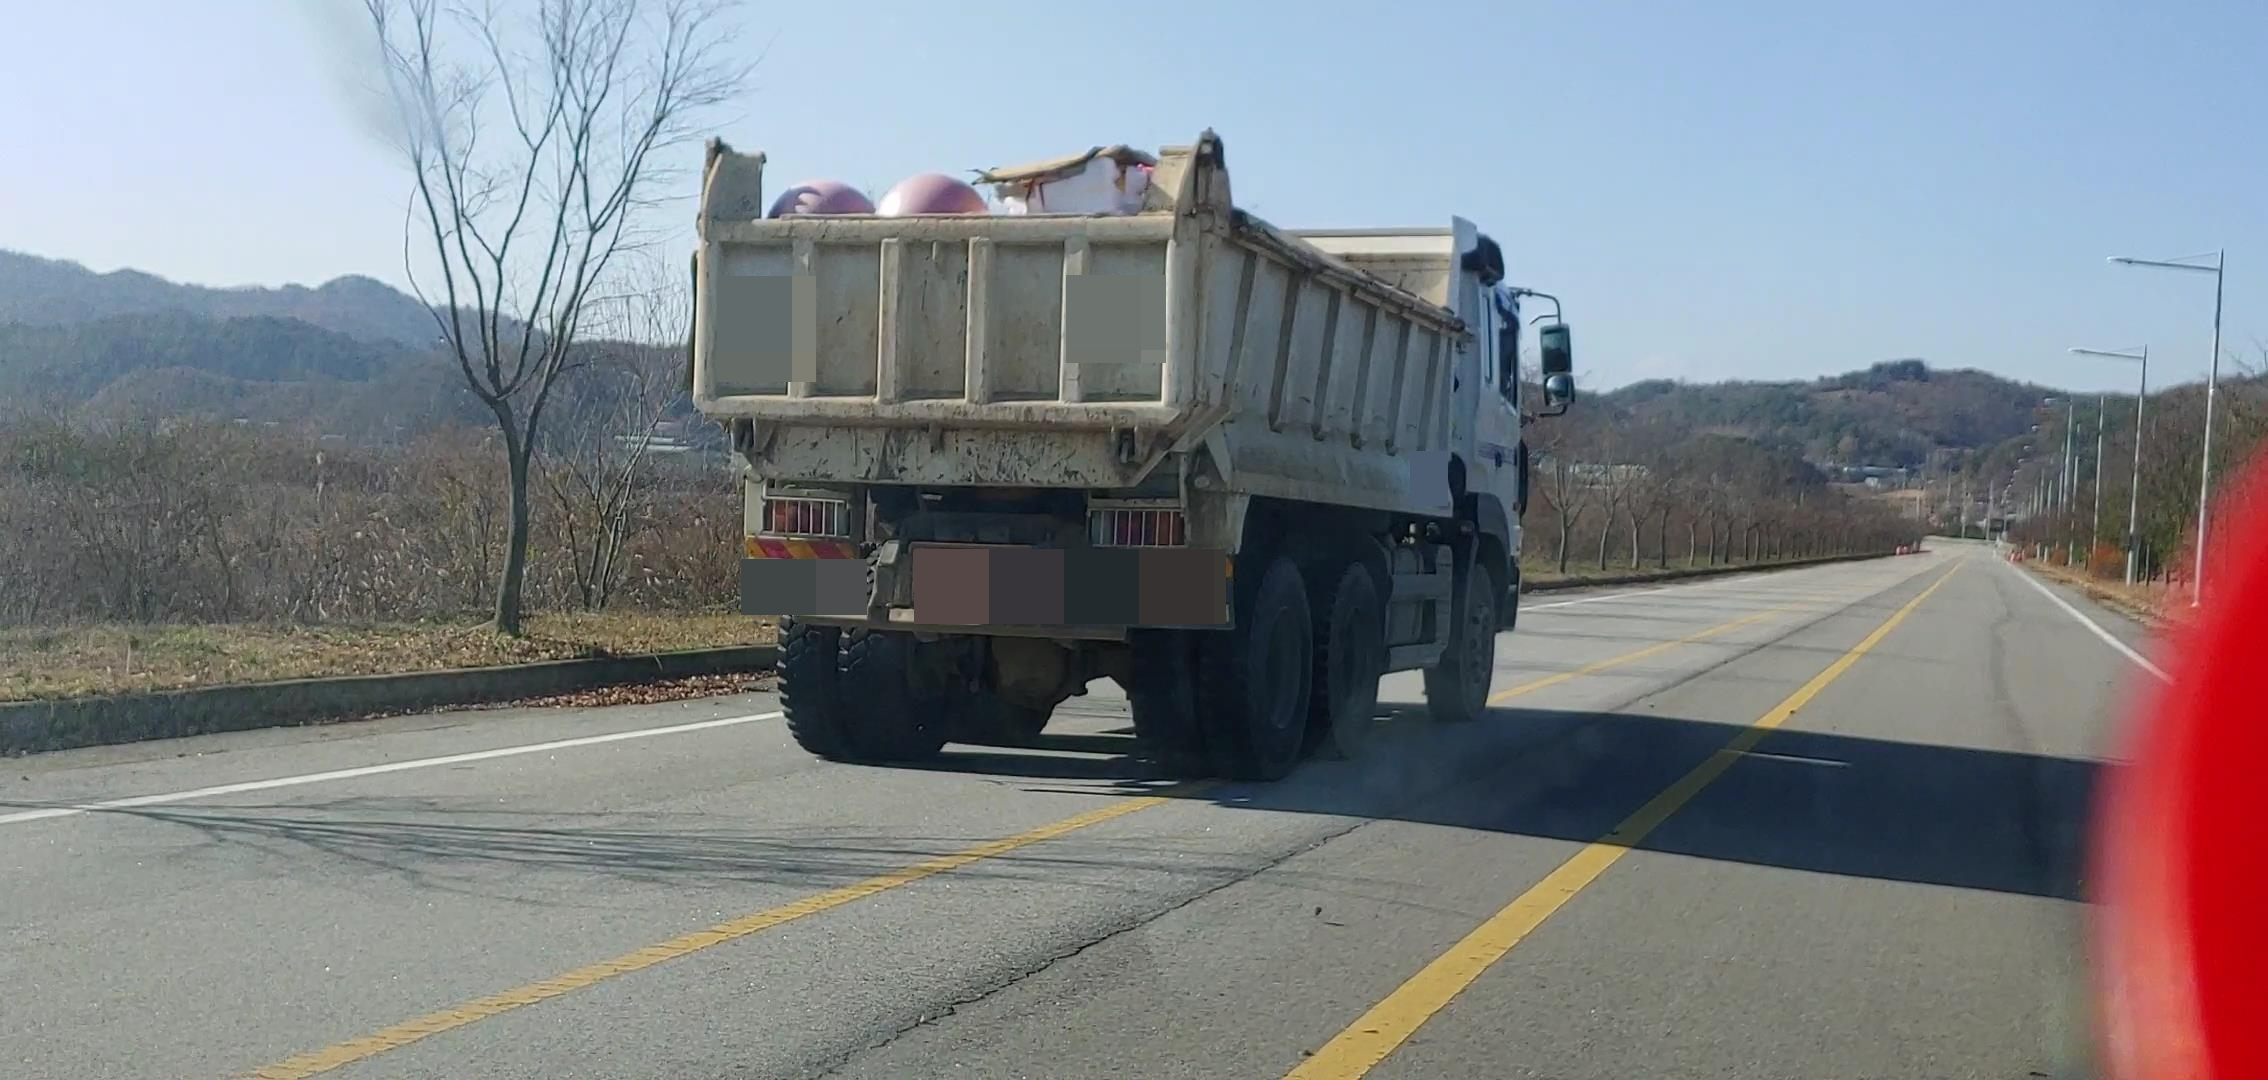불법차량: (680, 124, 1577, 785)
